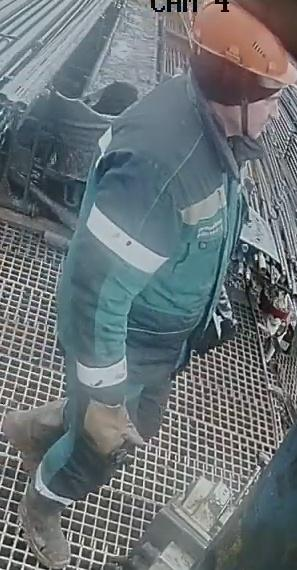gloves: (84, 387, 148, 468)
helmet: (187, 0, 296, 105)
vest: (56, 72, 249, 365)
